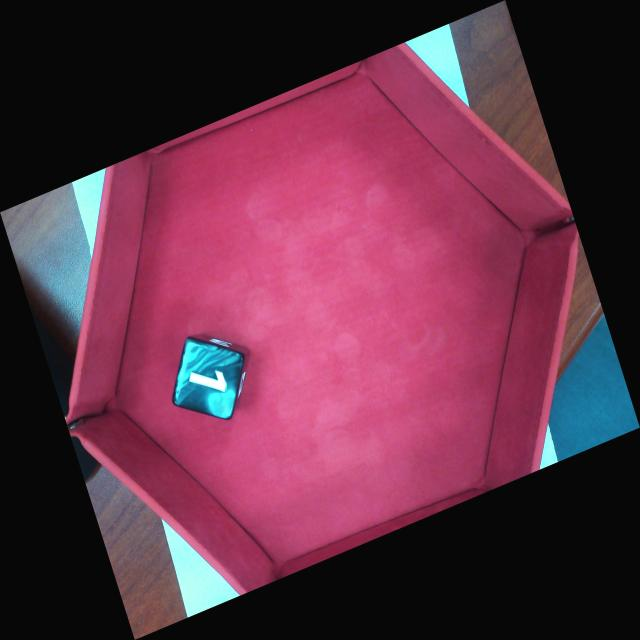dice: (175, 341, 244, 420)
